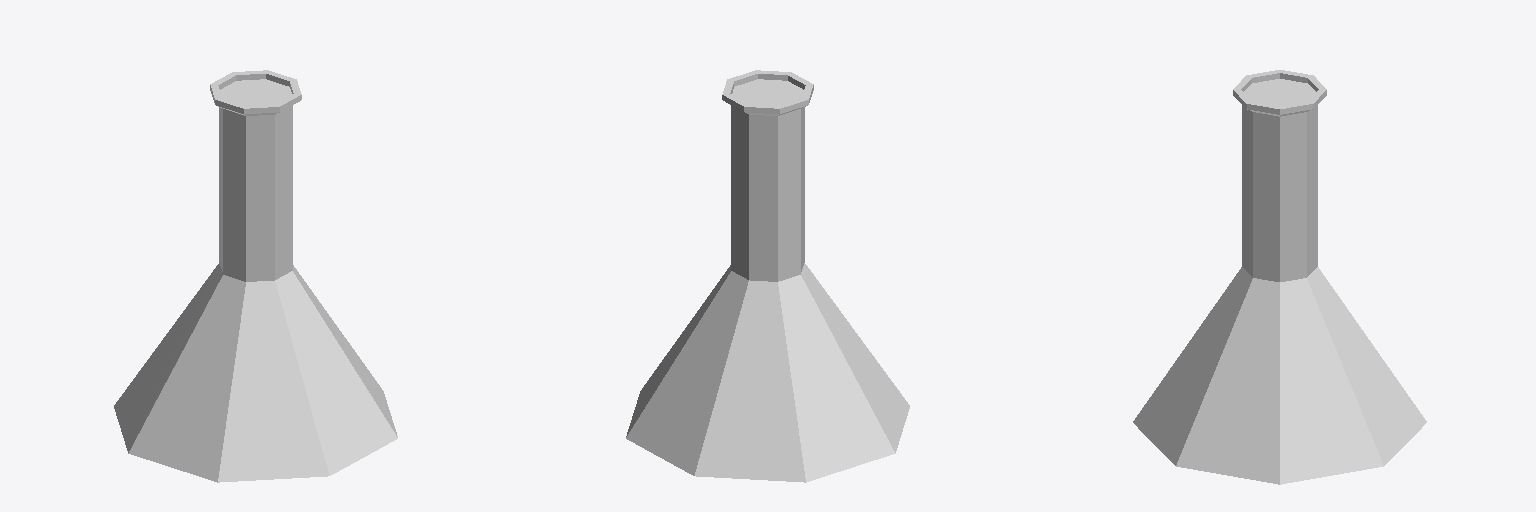
File: Erlenmeyer.obj
3 renders of one model, left to right at view 1: azimuth 30°, elevation 25°; view 2: azimuth 150°, elevation 25°; view 3: azimuth 270°, elevation 25°, orthographic.
Visible parts, largest first — view 1: Mesh1 Model; view 2: Mesh1 Model; view 3: Mesh1 Model.
Boxes of the visible parts, box(x1,y1,x2,y2) form: Mesh1 Model: box(114, 70, 397, 482); Mesh1 Model: box(626, 70, 909, 482); Mesh1 Model: box(1133, 70, 1426, 484).
Size of the model in its own units: 0.24 by 0.299 by 0.24.